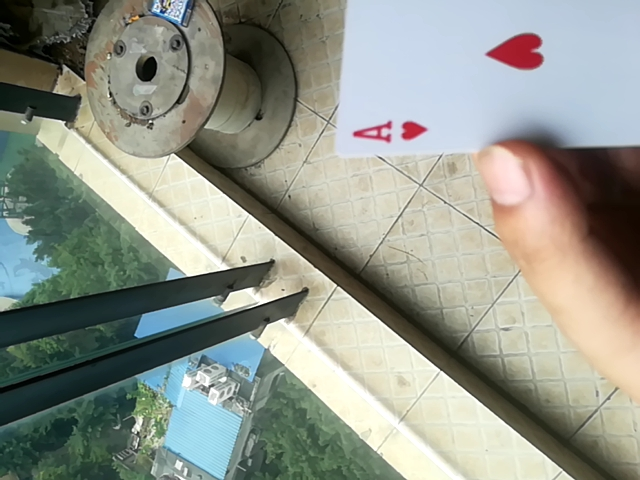hx a: (330, 0, 639, 160)
